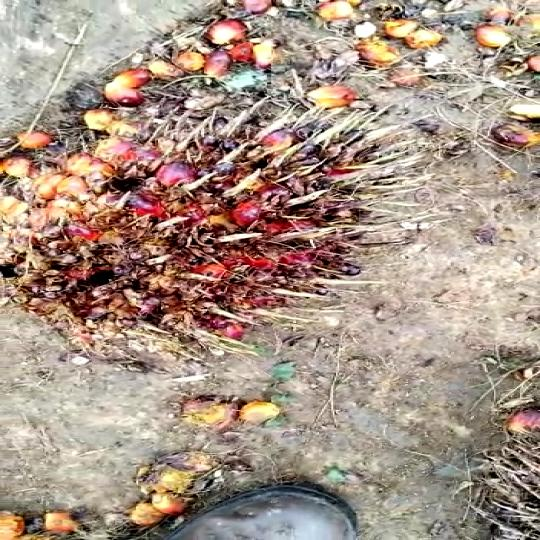terlalu masak: (0, 100, 458, 395)
